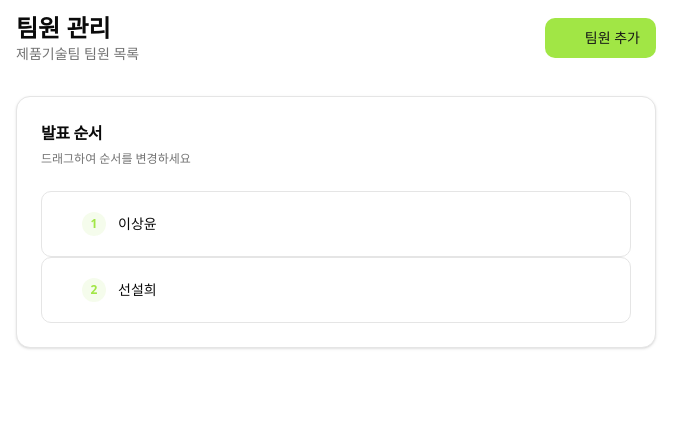
Scenario: TeamPage › Add Member › shows add form on button click
This screenshot has width=673, height=432.
Click the button "팀원 추가". click: (600,38)
box: 545,18 -> 656,58
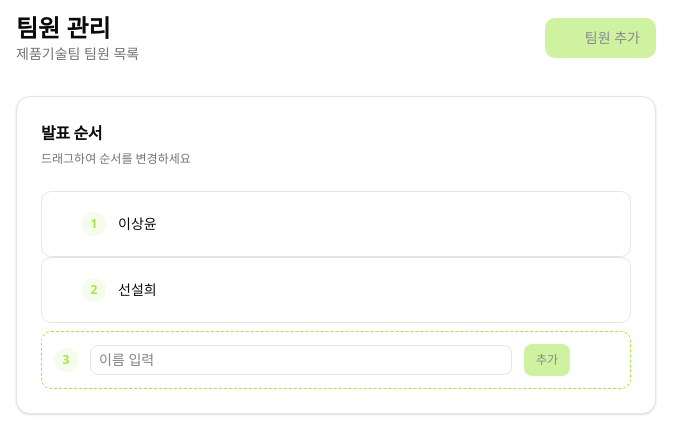
Expected: the field with placeholder "이름 입력" is shown, 90,345 -> 512,375
